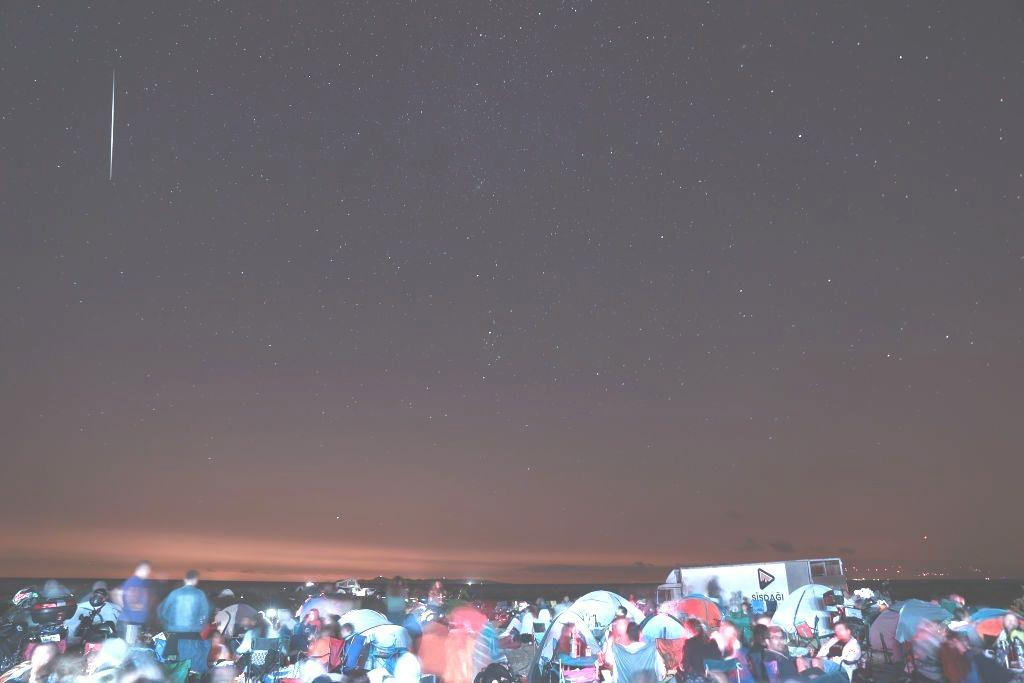meteorite: (94, 59, 131, 187)
